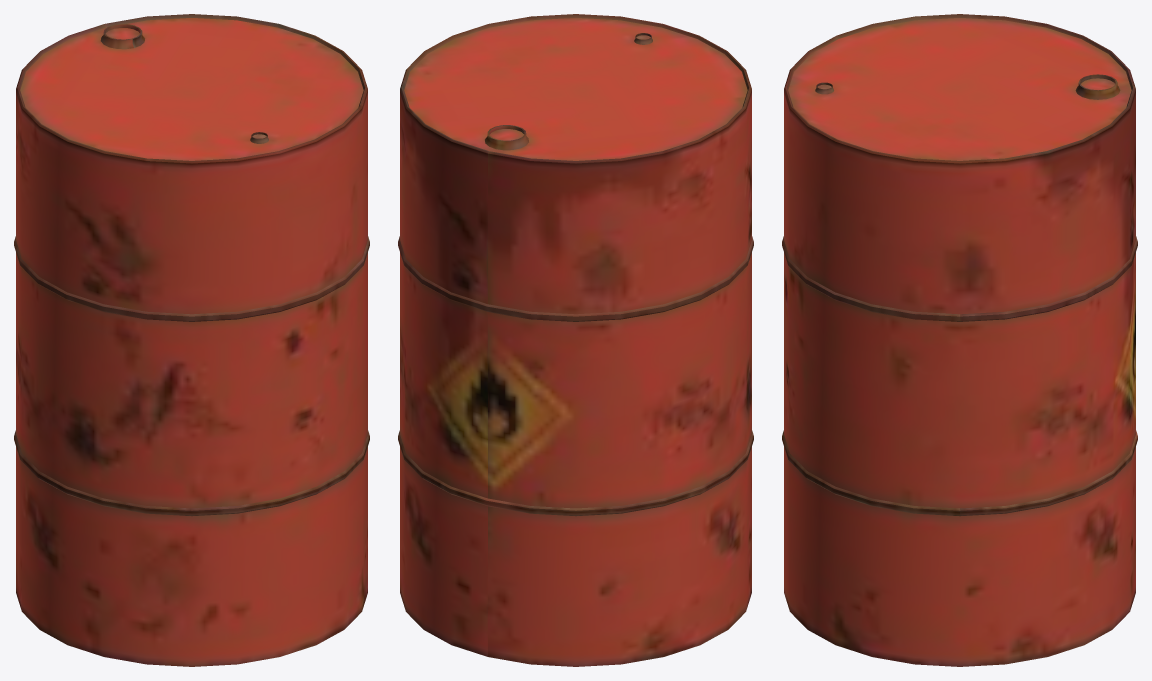
The model's file is barrel.glb.
3 renders of one model, left to right at view 1: azimuth 30°, elevation 25°; view 2: azimuth 150°, elevation 25°; view 3: azimuth 270°, elevation 25°, orthographic.
Visible parts, largest first — view 1: Barrel; view 2: Barrel; view 3: Barrel.
Boxes of the visible parts, x1,y1,x2,y2 form: Barrel: (14, 14, 369, 666); Barrel: (398, 14, 753, 666); Barrel: (782, 14, 1137, 666).
Size of the model in its own units: 0.6355 by 1.01 by 0.6355.
1 material, 1 textured.
